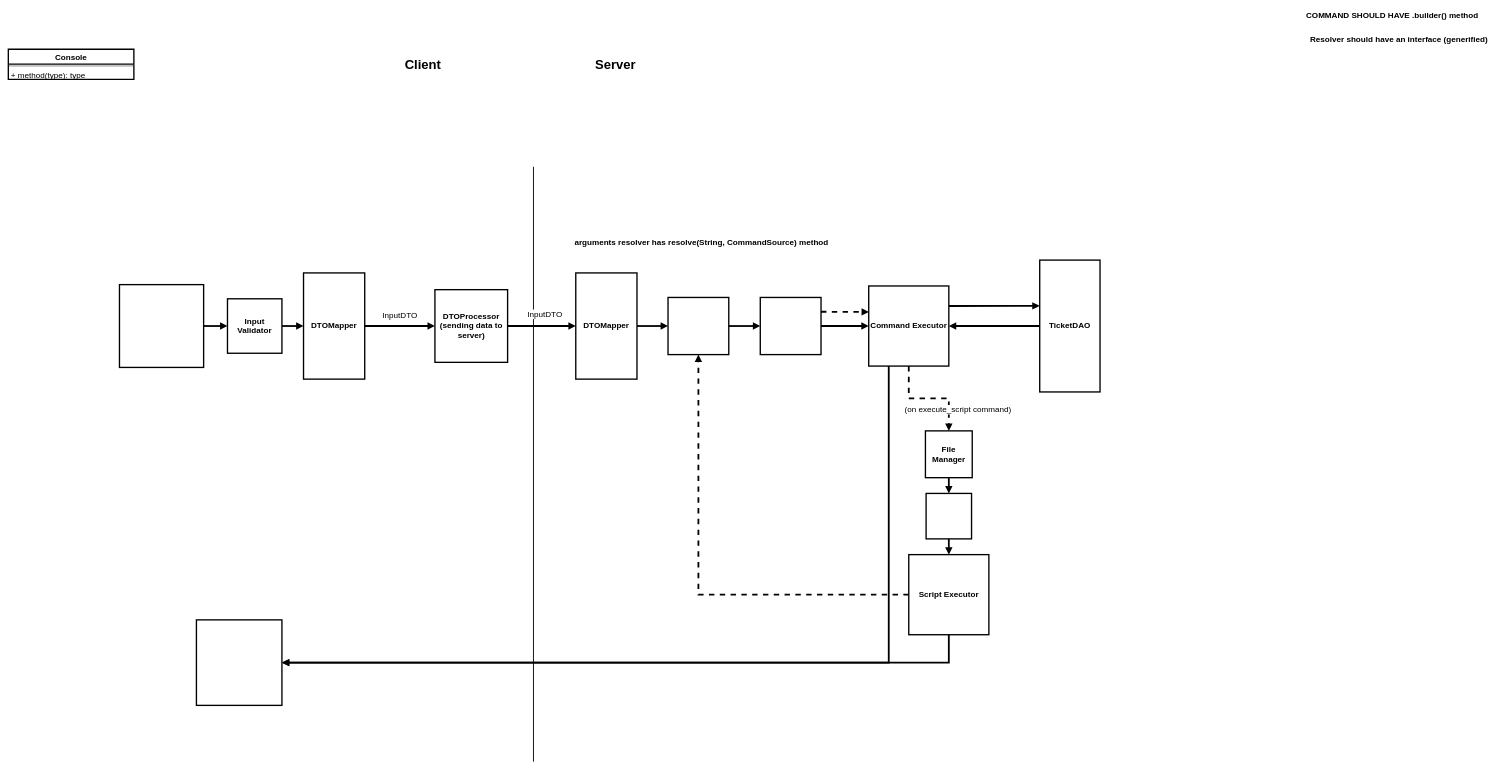
Image size: 1504x770. Some labels were removed from this diagram. Here are the shapes that lost their labels. From the top down, the centre of each, then its label:
the point at 161,326: Command Line Input
the point at 698,326: Arguments Resolver
the point at 790,326: Command Resolver
the point at 948,516: Script Validator
the point at 239,662: Command Line Output
